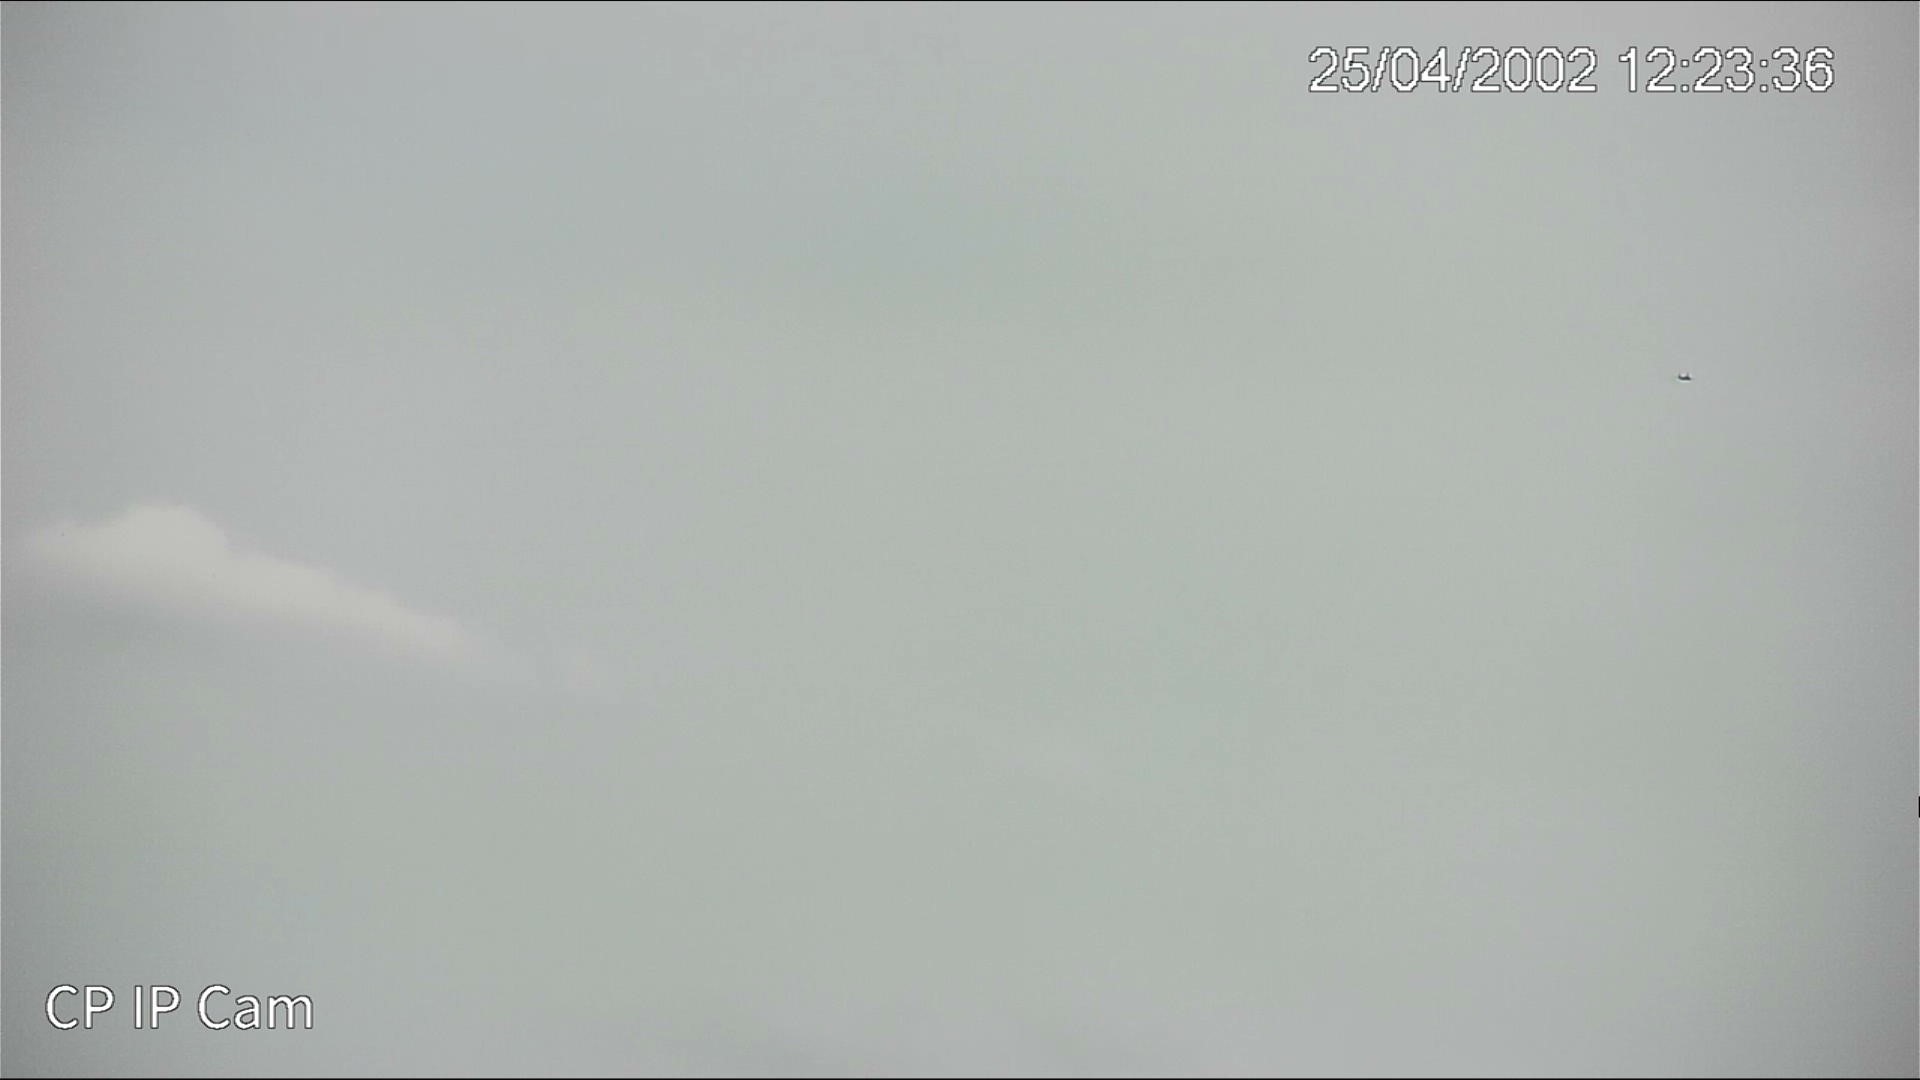SU_30: (1675, 372, 1695, 381)
